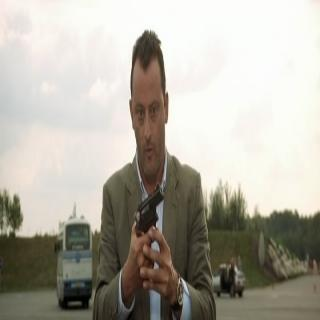gun: (128, 180, 172, 276)
